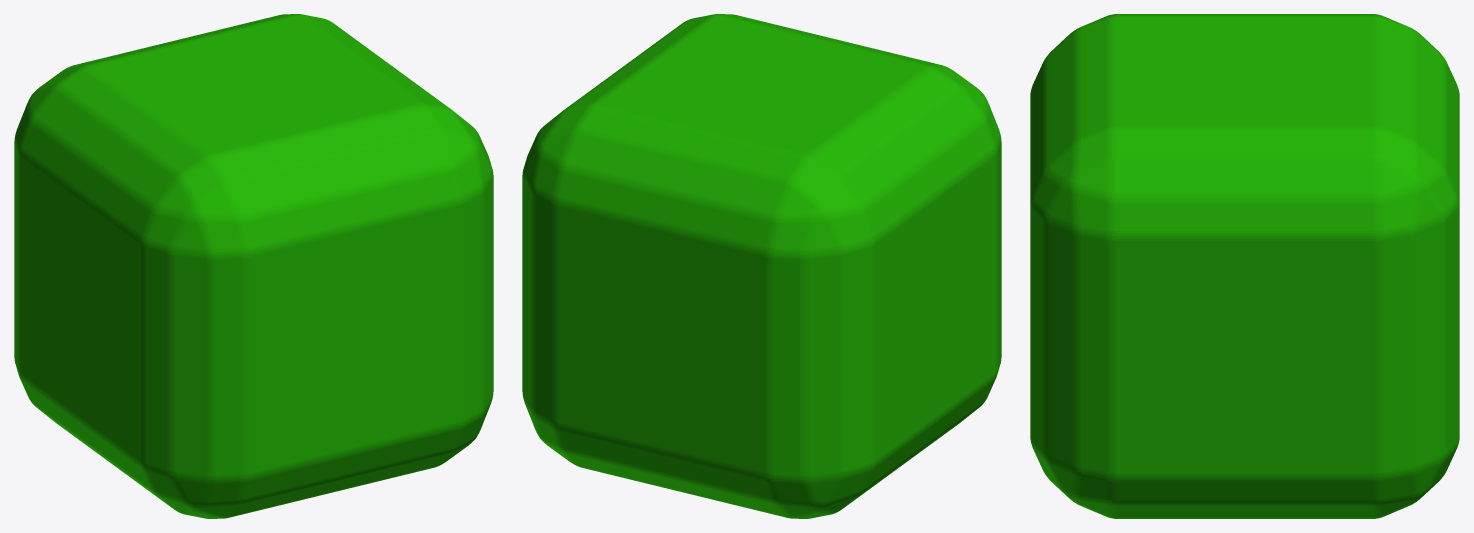
3 views of the same model, side by side, from view 1: azimuth 30°, elevation 25°; view 2: azimuth 150°, elevation 25°; view 3: azimuth 270°, elevation 25° (orthographic). The views are drawn at different scales.
Visible parts, largest first — view 1: Cube; view 2: Cube; view 3: Cube.
Boxes of the visible parts, x1=… form: Cube: x1=14, y1=14, x2=493, y2=518; Cube: x1=522, y1=14, x2=1001, y2=518; Cube: x1=1030, y1=14, x2=1459, y2=518.
Size of the model in its own units: 212 by 212 by 212.
